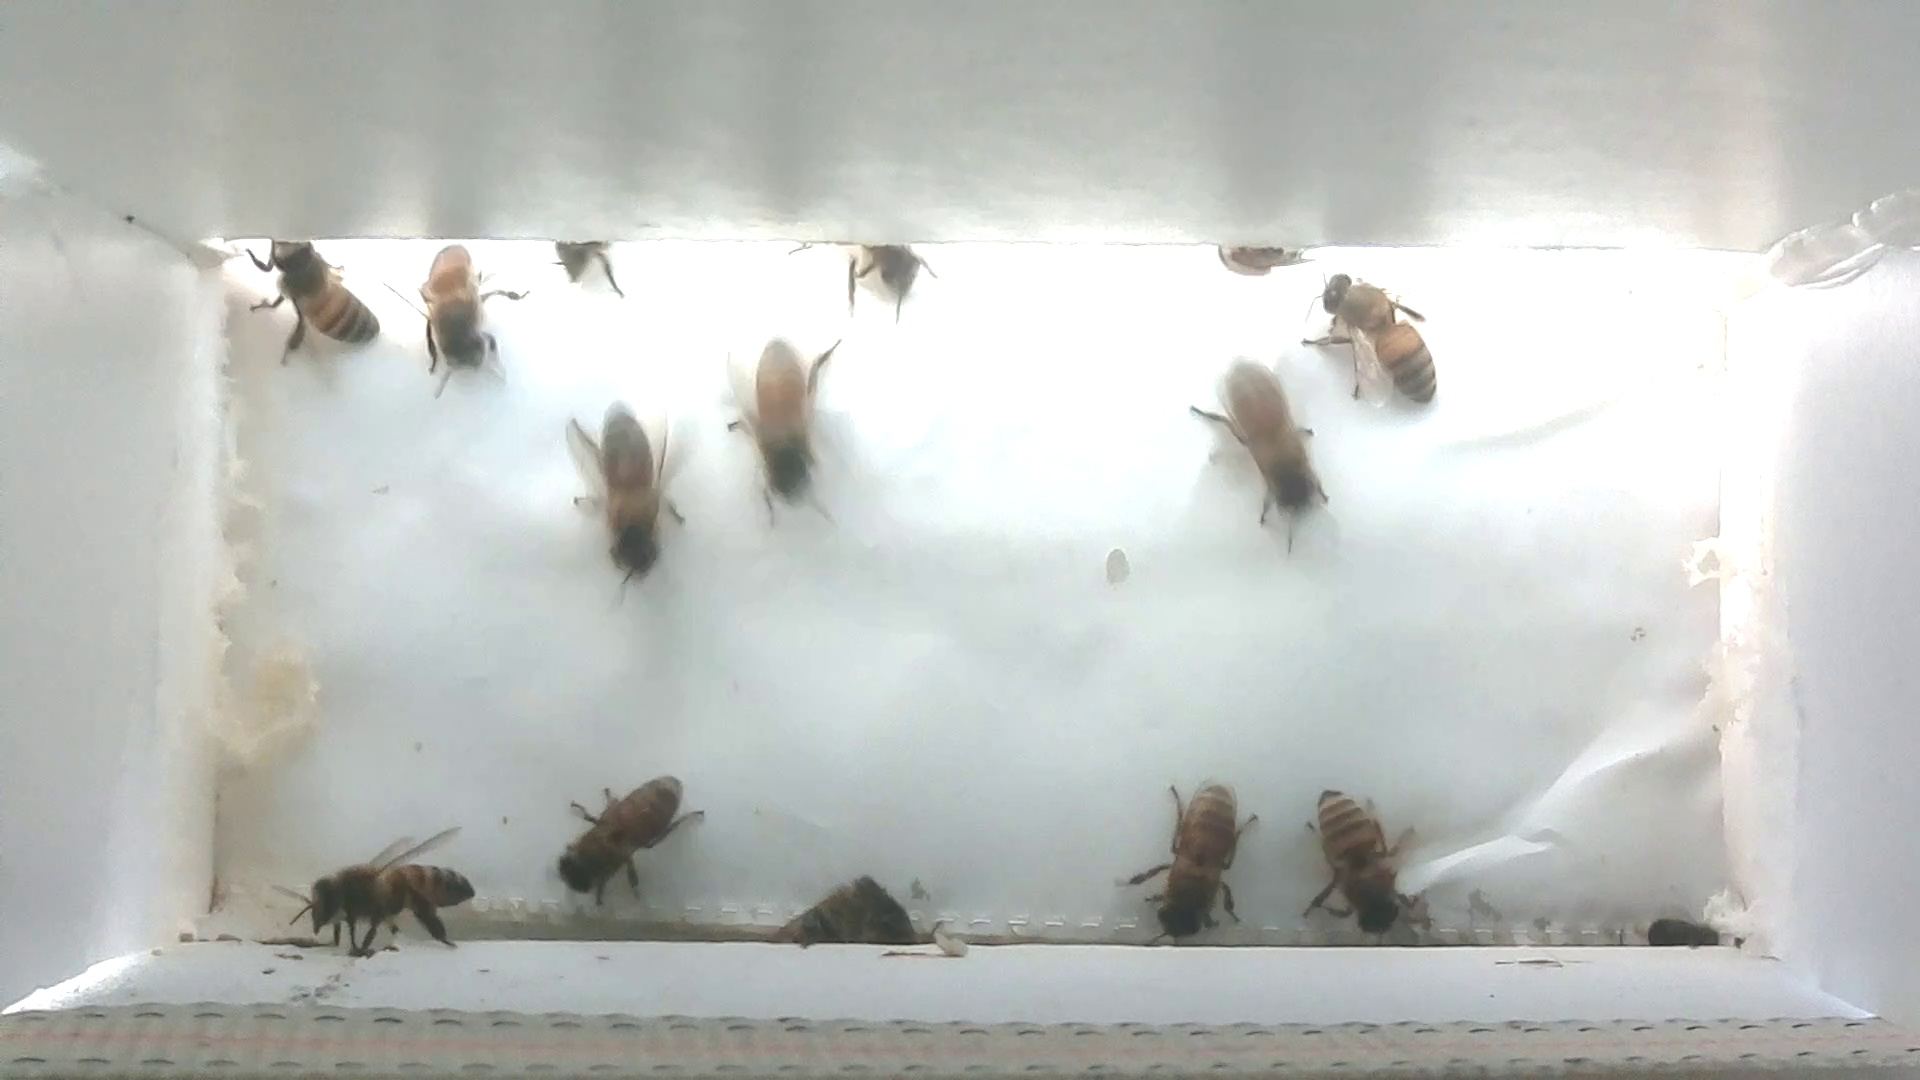bee: (1180, 353, 1353, 541), (534, 756, 727, 919), (270, 820, 498, 953), (554, 392, 705, 588), (1120, 764, 1269, 956), (713, 326, 856, 526), (1286, 258, 1455, 425), (1288, 770, 1440, 948), (386, 237, 524, 398), (236, 229, 385, 368), (761, 868, 920, 961), (823, 229, 940, 328), (545, 224, 641, 305), (1215, 235, 1313, 290)
